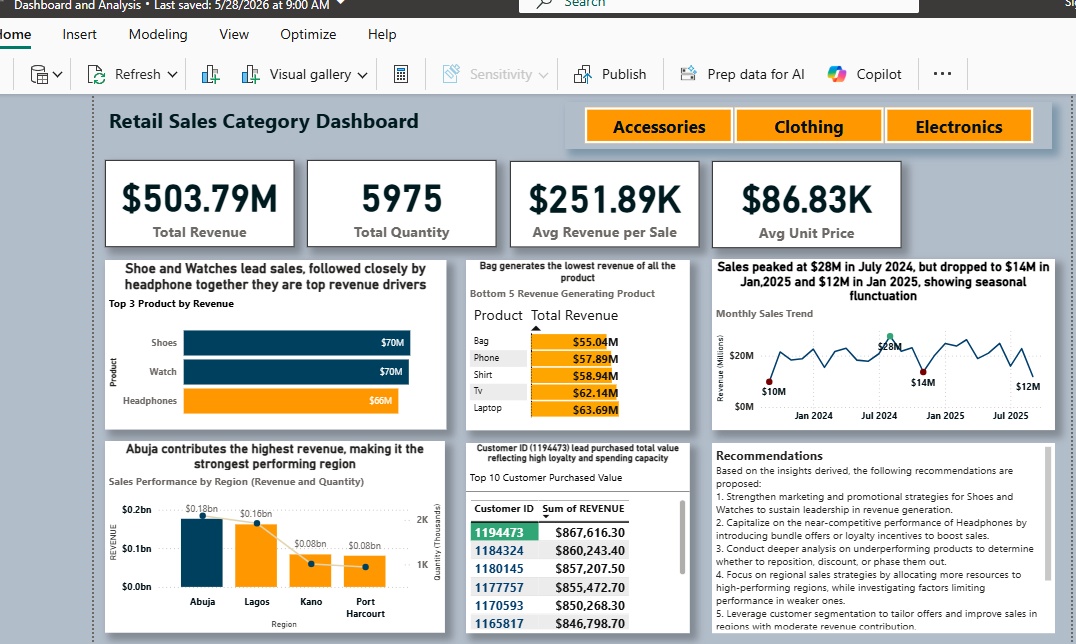

The page's visual inventory and layout, read from the dashboard file:
{"tool":"powerbi","page":{"name":"Visiual","canvas":[1280,720],"ordinal":0},"visuals":[{"type":"textbox","box":[14.4,10,428.9,51.1],"z":0},{"type":"card","fields":{"Values":["Cleaned data.Total Revenue"]},"box":[14,86.6,248,114],"z":1000},{"type":"card","fields":{"Values":["Cleaned data.Total Quantity"]},"box":[279.1,86.7,247.8,114.4],"z":2000},{"type":"card","fields":{"Values":["Cleaned data.Avg.Revenue per sale"]},"box":[544,87.8,247.8,113.3],"z":3000},{"type":"card","fields":{"Values":["Cleaned data.Avg Unit Price"]},"box":[808.9,87.8,247.8,114.4],"z":4000},{"type":"slicer","fields":{"Values":["Cleaned data.Product Category"]},"box":[616.3,10.1,637,61],"z":5000},{"type":"clusteredBarChart","title":"Shoe and Watches lead sales, followed closely by headphone together they are top revenue drivers  ","fields":{"Category":["Cleaned data.Product"],"Y":["Sum(Cleaned data.REVENUE)"]},"box":[14.4,216.7,446.7,222.2],"z":6000},{"type":"pivotTable","title":"Bag generates the lowest revenue of all the product ","fields":{"Rows":["Cleaned data.Product"],"Values":["Cleaned data.Total Revenue"]},"box":[487.1,217.1,292.9,222.9],"z":7000},{"type":"lineChart","title":"Sales peaked at $28M in July 2024, but dropped to $14M in Jan,2025 and $12M in Jan 2025, showing seasonal flunctuation","fields":{"Y":["Sum(Cleaned data.REVENUE)"],"Category":["Cleaned data.Sales_Month.Variation.Date Hierarchy.Year","Cleaned data.Sales_Month.Variation.Date Hierarchy.Month","Cleaned data.Sales_Month.Variation.Date Hierarchy.Day"]},"box":[809,216,449,223.9],"z":8000},{"type":"lineClusteredColumnComboChart","title":"Abuja contributes the highest revenue, making it the strongest performing region","fields":{"Category":["Cleaned data.Region"],"Y":["Sum(Cleaned data.REVENUE)"],"Y2":["Sum(Cleaned data.Quantity)"]},"box":[14.4,454.4,445,251],"z":9000},{"type":"tableEx","title":"Customer ID (1194473) lead purchased total value reflecting high loyalty and spending capacity","fields":{"Values":["Cleaned data.Customer ID","Sum(Cleaned data.REVENUE)"]},"box":[487,456.9,293.2,248.7],"z":10000},{"type":"textbox","box":[809,457,449,249],"z":11000}]}

Visuals, with their boxes on the page's 1280x720 design canvas (x1, y1, x2, y2). These are canvas units, not pixel positions in the 1076x644 screenshot, which may show the page scaled, cropped or inside an application window:
textbox: left=14, top=10, right=443, bottom=61
card - Cleaned data.Total Revenue: left=14, top=87, right=262, bottom=201
card - Cleaned data.Total Quantity: left=279, top=87, right=527, bottom=201
card - Cleaned data.Avg.Revenue per sale: left=544, top=88, right=792, bottom=201
card - Cleaned data.Avg Unit Price: left=809, top=88, right=1057, bottom=202
slicer - Cleaned data.Product Category: left=616, top=10, right=1253, bottom=71
"Shoe and Watches lead sales, followed closely by headphone together they are top revenue drivers  " clusteredBarChart: left=14, top=217, right=461, bottom=439
"Bag generates the lowest revenue of all the product " pivotTable: left=487, top=217, right=780, bottom=440
"Sales peaked at $28M in July 2024, but dropped to $14M in Jan,2025 and $12M in Jan 2025, showing seasonal flunctuation" lineChart: left=809, top=216, right=1258, bottom=440
"Abuja contributes the highest revenue, making it the strongest performing region" lineClusteredColumnComboChart: left=14, top=454, right=459, bottom=705
"Customer ID (1194473) lead purchased total value reflecting high loyalty and spending capacity" tableEx: left=487, top=457, right=780, bottom=706
textbox: left=809, top=457, right=1258, bottom=706
